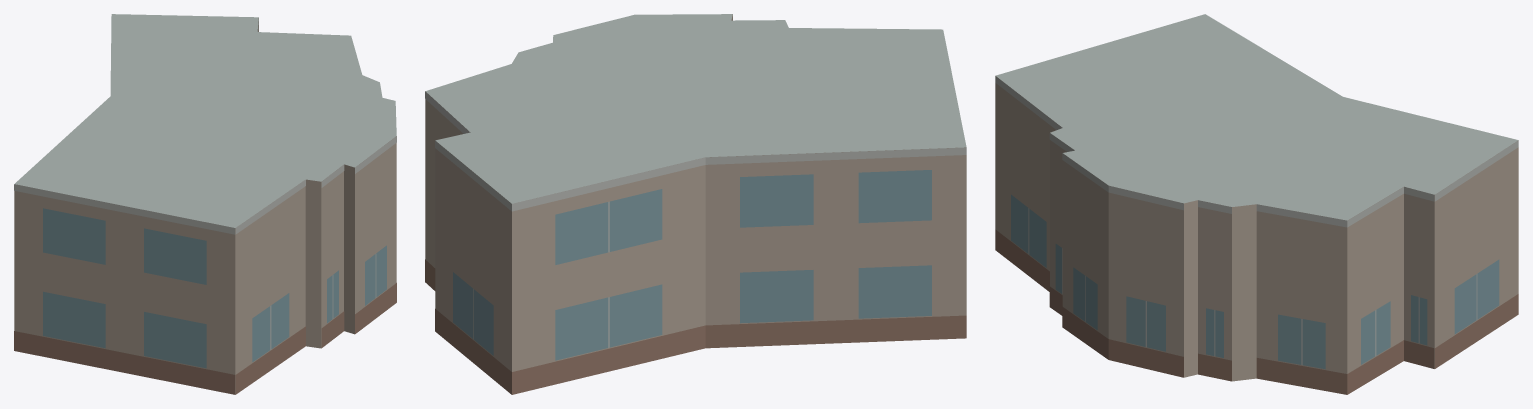
File: survey-upis-32783169.glb
3 views of the same model, side by side, from view 1: azimuth 30°, elevation 25°; view 2: azimuth 150°, elevation 25°; view 3: azimuth 270°, elevation 25° (orthographic). The views are drawn at different scales.
Parts seen in each view (by area): view 1: survey-upis-32783169.tmp; view 2: survey-upis-32783169.tmp; view 3: survey-upis-32783169.tmp.
Boxes of the visible parts, x1=… form: survey-upis-32783169.tmp: x1=14, y1=14, x2=396, y2=394; survey-upis-32783169.tmp: x1=425, y1=14, x2=966, y2=394; survey-upis-32783169.tmp: x1=995, y1=14, x2=1518, y2=394.
Size of the model in its own units: 15.51 by 6.1 by 16.6.
